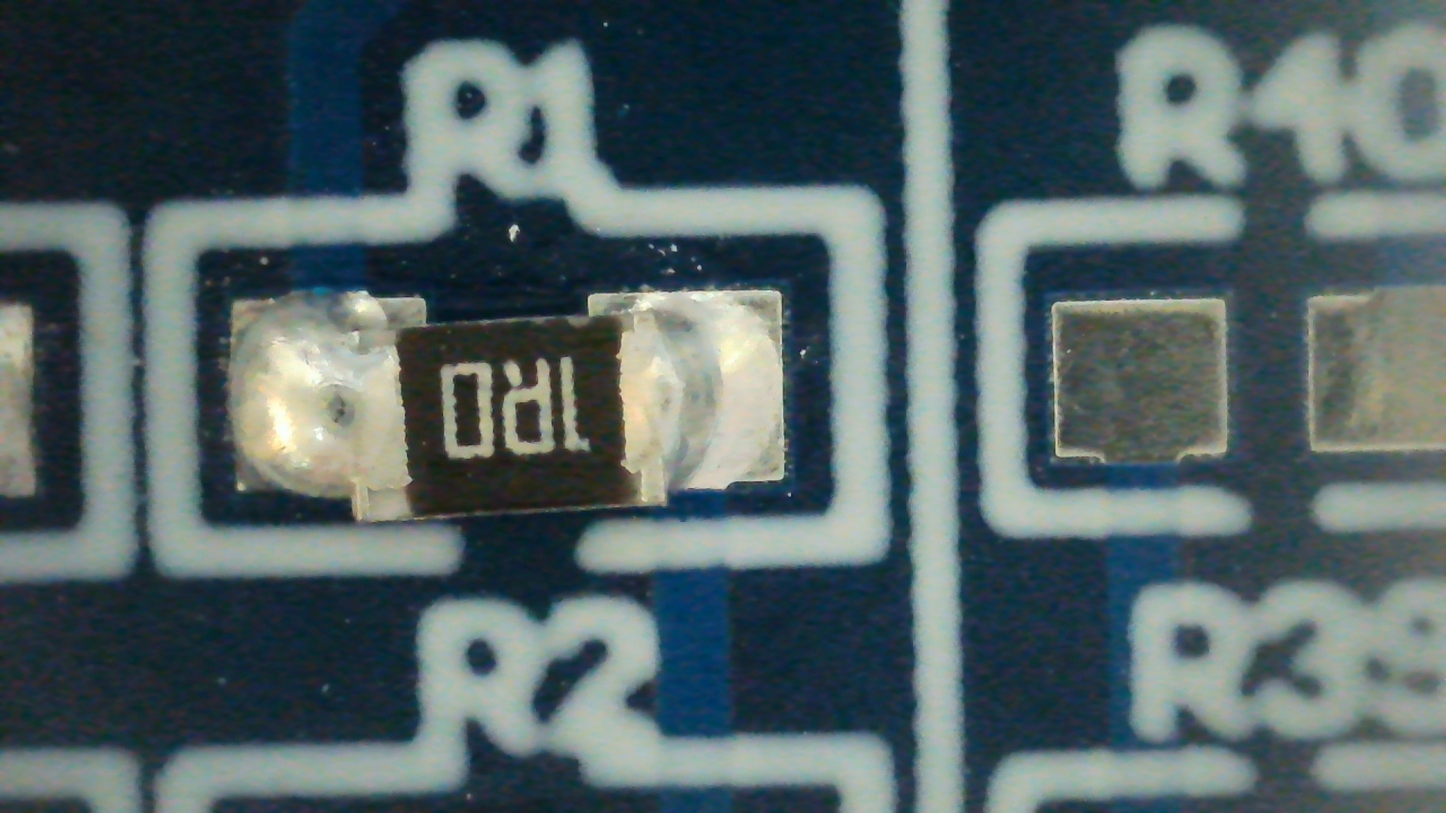NG: (231, 291, 784, 521)
